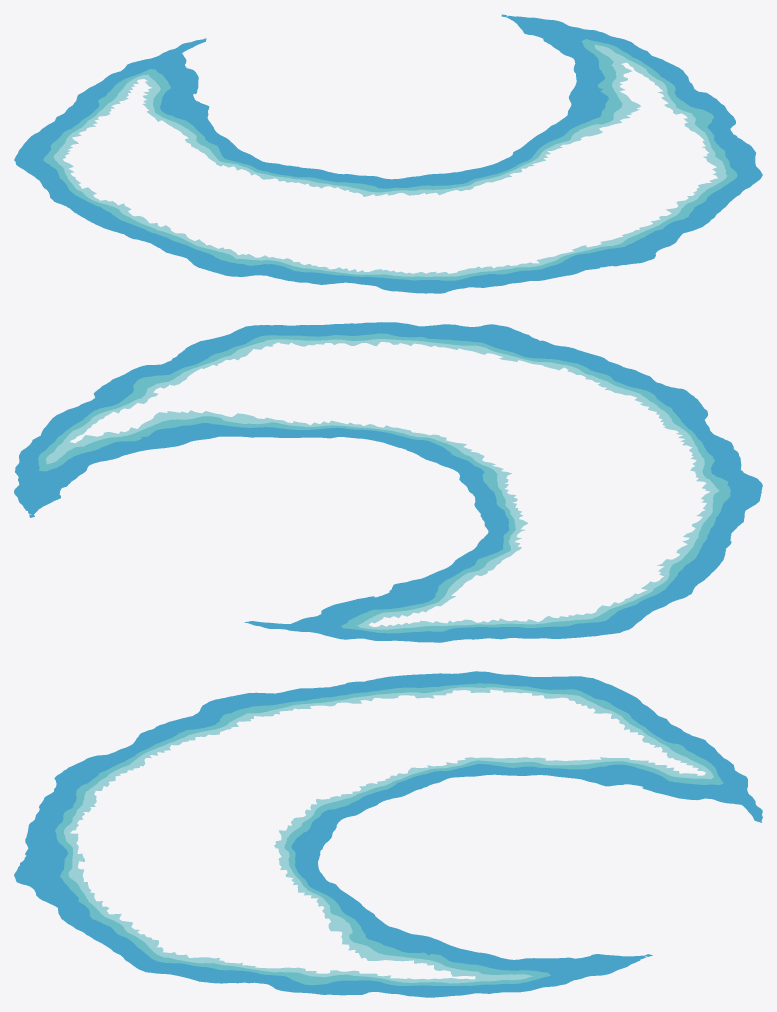
File: Isl-crescent1-Water.fbx
The picture shows the model from 3 angles, top to bottom: view 1: azimuth 30°, elevation 25°; view 2: azimuth 150°, elevation 25°; view 3: azimuth 270°, elevation 25°; orthographic projection. The views are drawn at different scales.
Visible parts, largest first — view 1: Isl-crescent1-Water; view 2: Isl-crescent1-Water; view 3: Isl-crescent1-Water.
Part boxes in pixels (box(x1,y1,x2,y2)): Isl-crescent1-Water: box(14, 14, 762, 293); Isl-crescent1-Water: box(14, 322, 762, 642); Isl-crescent1-Water: box(14, 671, 762, 997).
Size of the model in its own units: 126 by 0 by 122.
